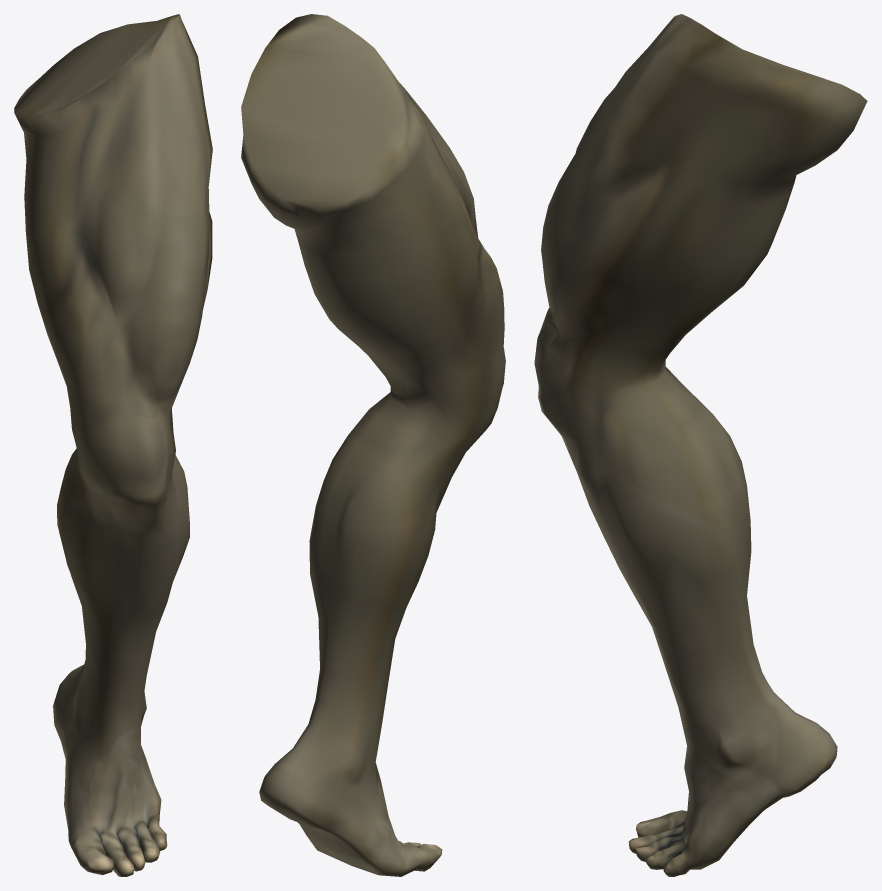
The model's file is tripo-leg-three.glb.
3 renders of one model, left to right at view 1: azimuth 30°, elevation 25°; view 2: azimuth 150°, elevation 25°; view 3: azimuth 270°, elevation 25°, orthographic. The views are drawn at different scales.
Visible parts, largest first — view 1: tripo-leg-three; view 2: tripo-leg-three; view 3: tripo-leg-three.
Boxes of the visible parts, x1,y1,x2,y2 form: tripo-leg-three: (14, 14, 212, 876); tripo-leg-three: (241, 14, 505, 876); tripo-leg-three: (534, 14, 867, 876).
Bounding box in the file's own units: 0.1945 × 0.9103 × 0.3145.
1 material, 1 textured.
